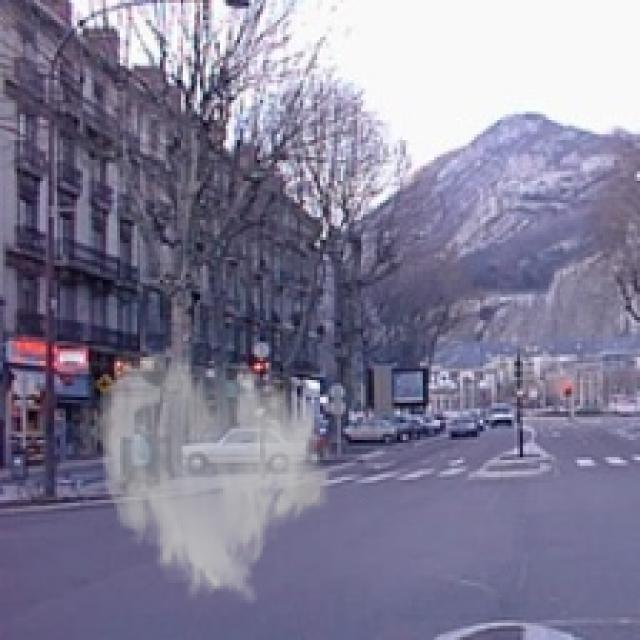Smoke: (92, 346, 334, 608)
